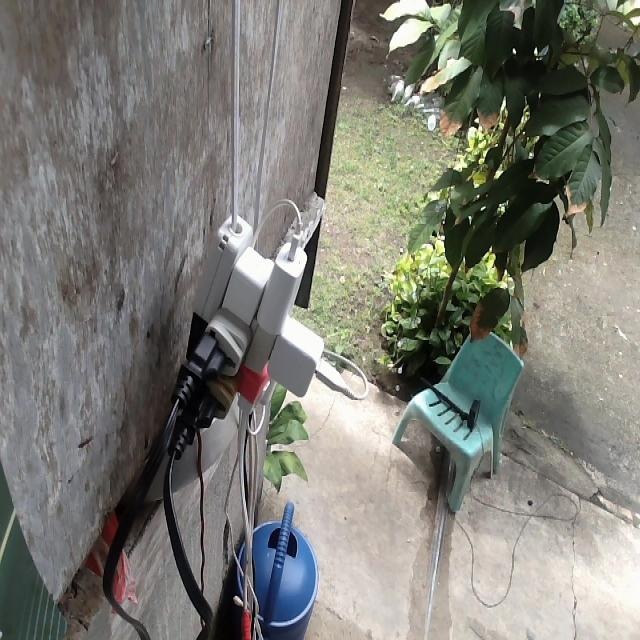-: (166, 214, 352, 462)
